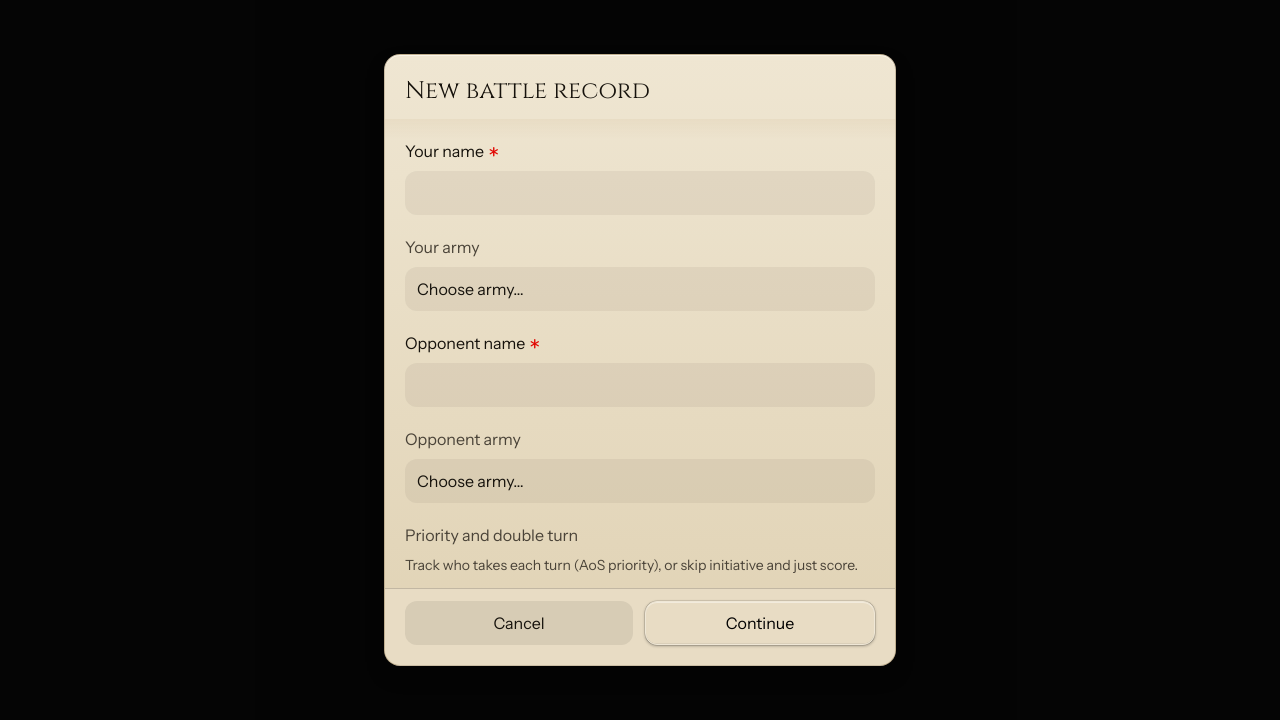
Test: BattleRecordCreateSheet › warns about both missing names, armies stay optional
Click the button "Continue" at (760, 623), box left=645, top=601, right=875, bottom=645
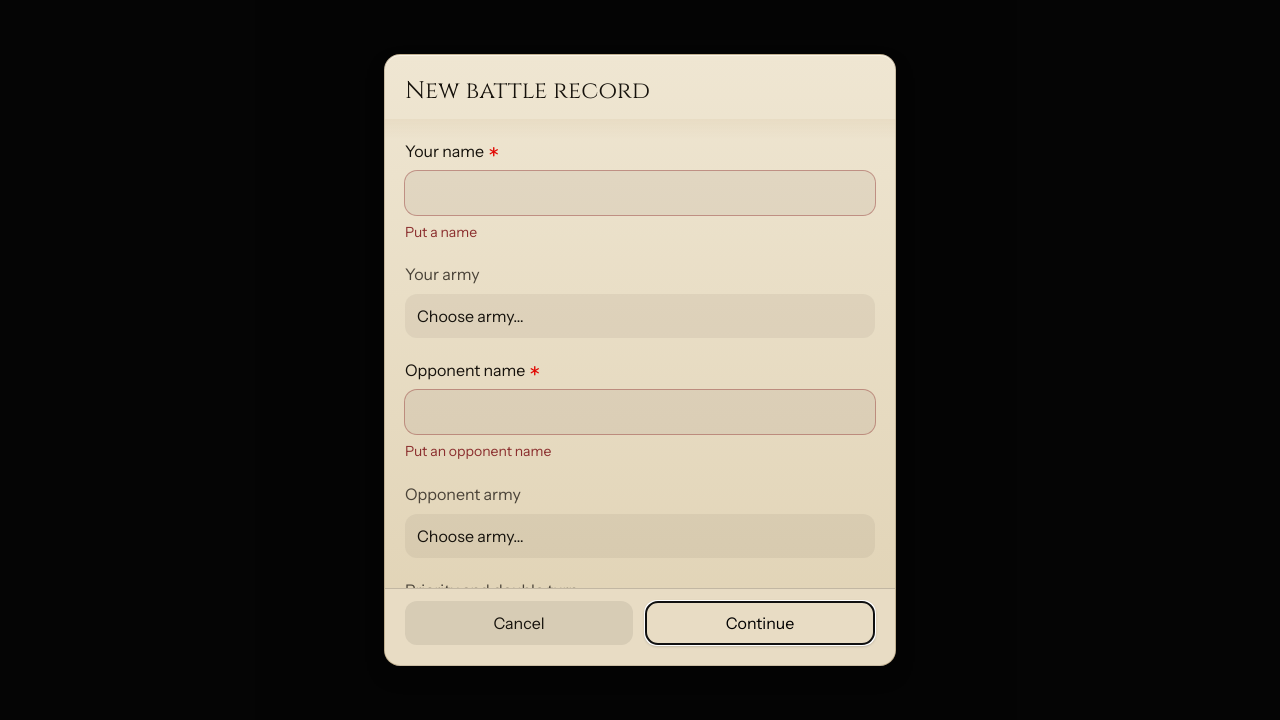
Check: the text "Put a name" is shown, box left=405, top=223, right=477, bottom=241
Check: the text "Put an opponent name" is shown, box left=405, top=442, right=551, bottom=460
